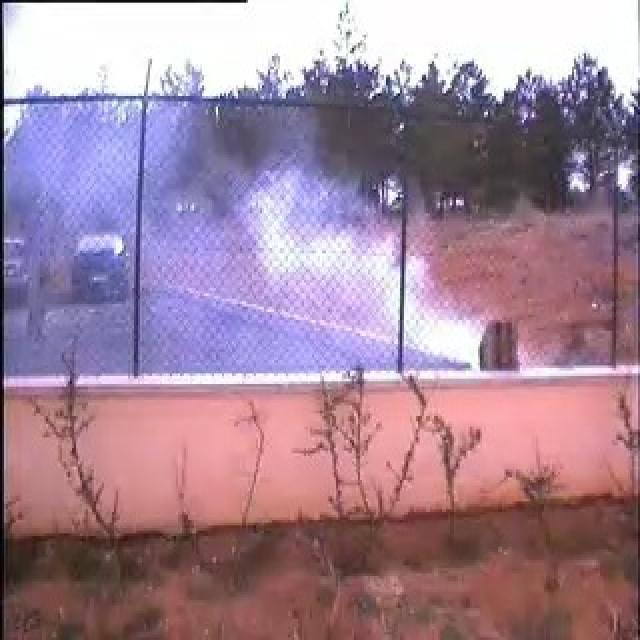Smoke: (131, 117, 479, 371)
